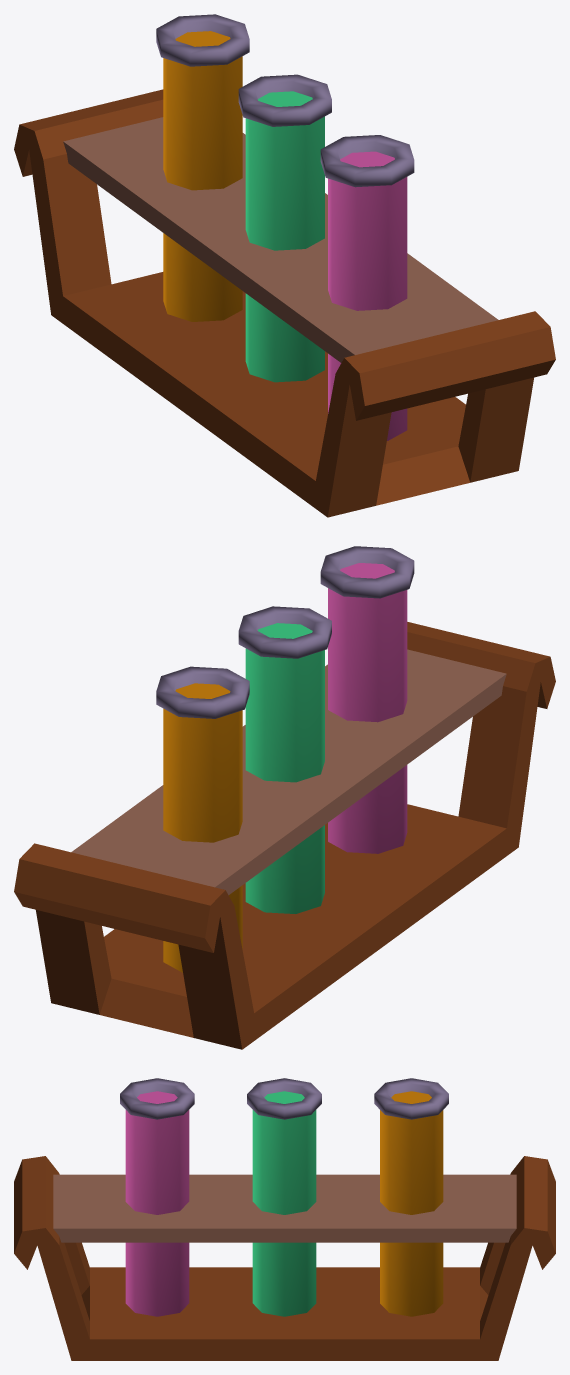
Rendered from Vial_Holder.fbx.
3 views of the same model, one above another, from view 1: azimuth 30°, elevation 25°; view 2: azimuth 150°, elevation 25°; view 3: azimuth 270°, elevation 25° (orthographic). The views are drawn at different scales.
Visible parts, largest first — view 1: Vial_Holder; view 2: Vial_Holder; view 3: Vial_Holder.
Boxes of the visible parts, box(x1,y1,x2,y2) form: Vial_Holder: box(14, 14, 555, 517); Vial_Holder: box(14, 546, 555, 1049); Vial_Holder: box(14, 1078, 555, 1360).
Bounding box in the file's own units: 17.19 × 25.69 × 54.67.
Materials: 1 (1 with a texture image).
